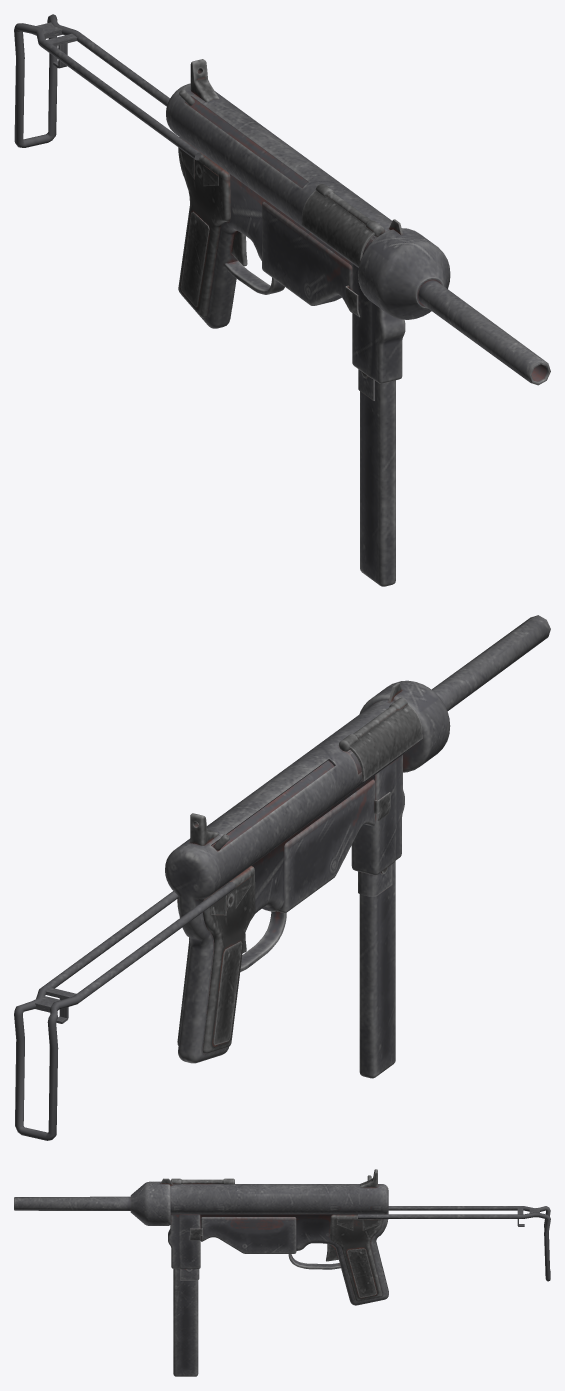
File: M3冲锋枪.FBX
The picture shows the model from 3 angles, top to bottom: view 1: azimuth 30°, elevation 25°; view 2: azimuth 150°, elevation 25°; view 3: azimuth 270°, elevation 25°; orthographic projection. The views are drawn at different scales.
Parts seen in each view (by area): view 1: M3冲锋枪; view 2: M3冲锋枪; view 3: M3冲锋枪.
Boxes of the visible parts, bbox=[...] form: M3冲锋枪: bbox=[14, 14, 550, 586]; M3冲锋枪: bbox=[14, 615, 550, 1140]; M3冲锋枪: bbox=[14, 1169, 550, 1376].
Bounding box in the file's own units: 0.0562 × 0.2866 × 0.6808.
